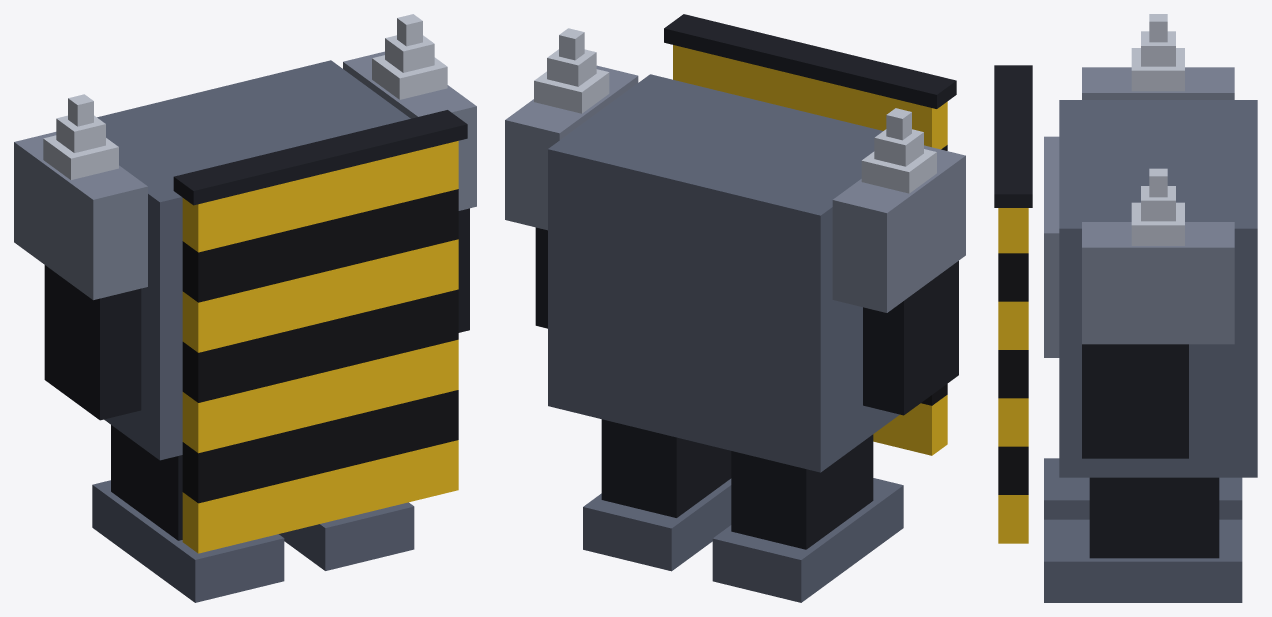
The model's file is robot_body.obj.
The picture shows the model from 3 angles, left to right: view 1: azimuth 30°, elevation 25°; view 2: azimuth 150°, elevation 25°; view 3: azimuth 270°, elevation 25°; orthographic projection. The views are drawn at different scales.
Visible parts, largest first — view 1: robot_body; view 2: robot_body; view 3: robot_body.
Boxes of the visible parts, x1,y1,x2,y2 form: robot_body: (14, 14, 476, 602); robot_body: (505, 14, 965, 602); robot_body: (994, 14, 1257, 602).
Bounding box in the file's own units: 0.56 × 0.66 × 0.345.
Materials: 1 (1 with a texture image).
